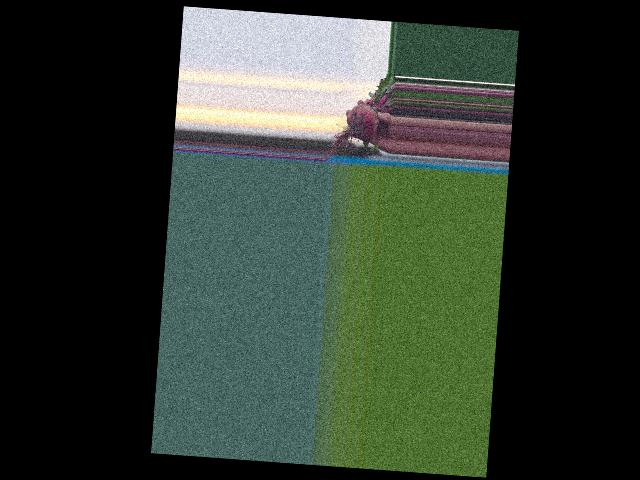beet: (325, 69, 395, 165)
